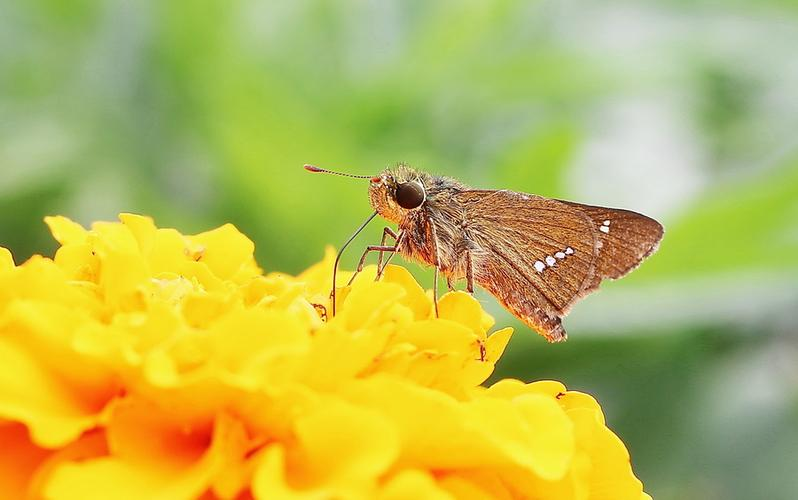Hesperiidae: (300, 154, 667, 347)
